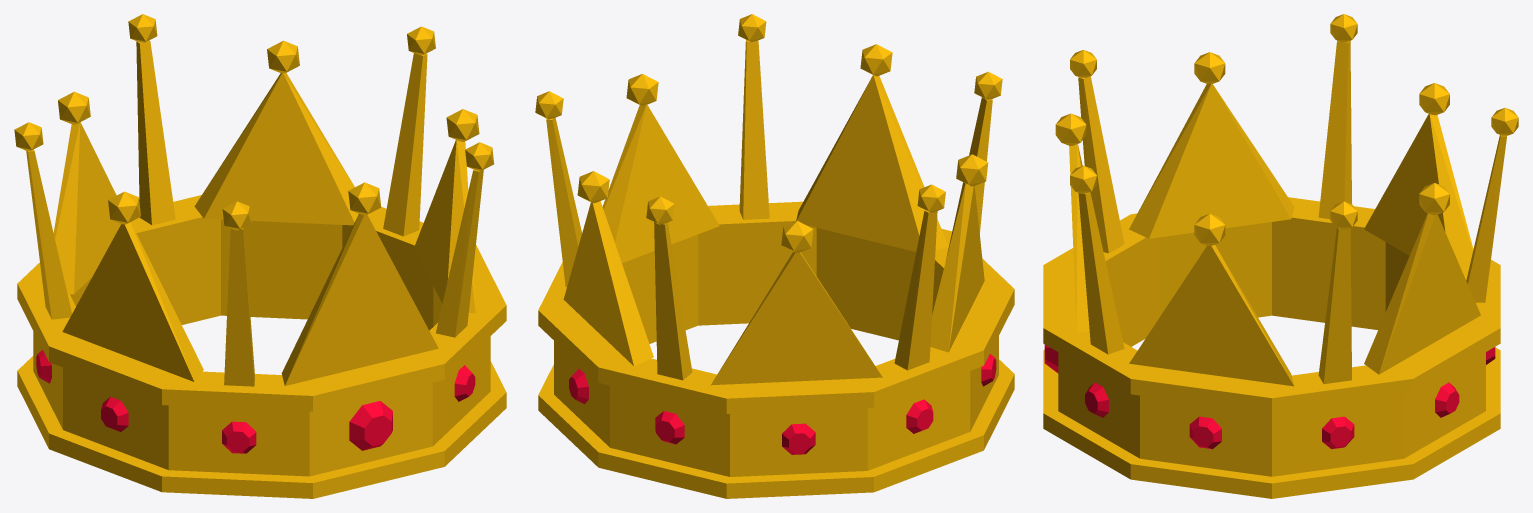
The model's file is LeaderboardCrown.fbx.
3 views of the same model, side by side, from view 1: azimuth 30°, elevation 25°; view 2: azimuth 150°, elevation 25°; view 3: azimuth 270°, elevation 25° (orthographic). The views are drawn at different scales.
Visible parts, largest first — view 1: LeaderboardCrown, LeaderboardCrown_Gems; view 2: LeaderboardCrown, LeaderboardCrown_Gems; view 3: LeaderboardCrown, LeaderboardCrown_Gems.
Part boxes in pixels (<box>): LeaderboardCrown: <box>14,14,506,498</box>; LeaderboardCrown_Gems: <box>36,350,475,453</box>; LeaderboardCrown: <box>535,14,1014,498</box>; LeaderboardCrown_Gems: <box>569,354,996,454</box>; LeaderboardCrown: <box>1043,14,1518,498</box>; LeaderboardCrown_Gems: <box>1044,344,1495,449</box>.
Bounding box in the file's own units: 1.8 × 1.2 × 1.78.
